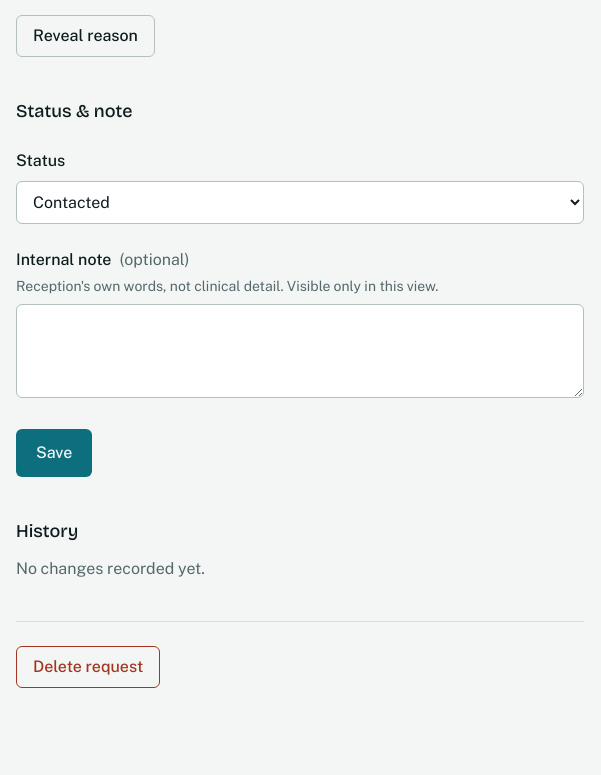
Test: AdminRequestDetail › cancelling the confirmation step does not delete anything
The image size is (601, 775).
(page scrolled)
Step 1. Click the button "Delete request" → (88, 666), box [16, 646, 160, 688]
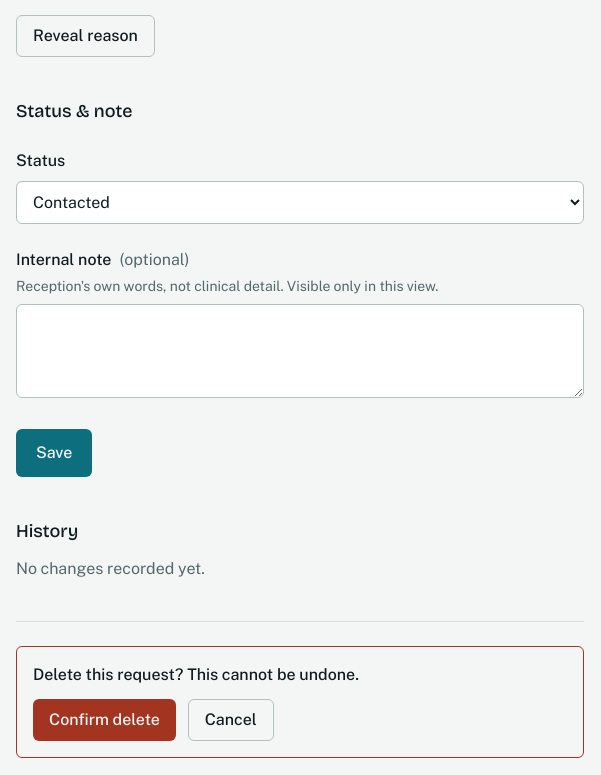
Step 2. Click the button "Cancel" → (231, 720), box [188, 698, 274, 740]
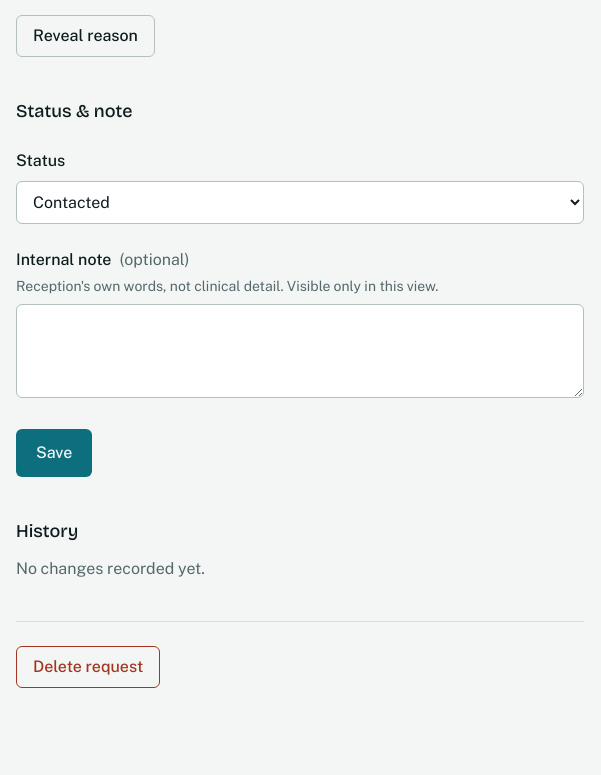
Expected: the button "Delete request" is shown, [16, 646, 160, 688]
